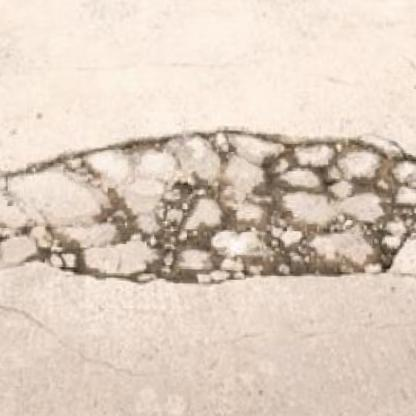pothole: (0, 118, 416, 301)
